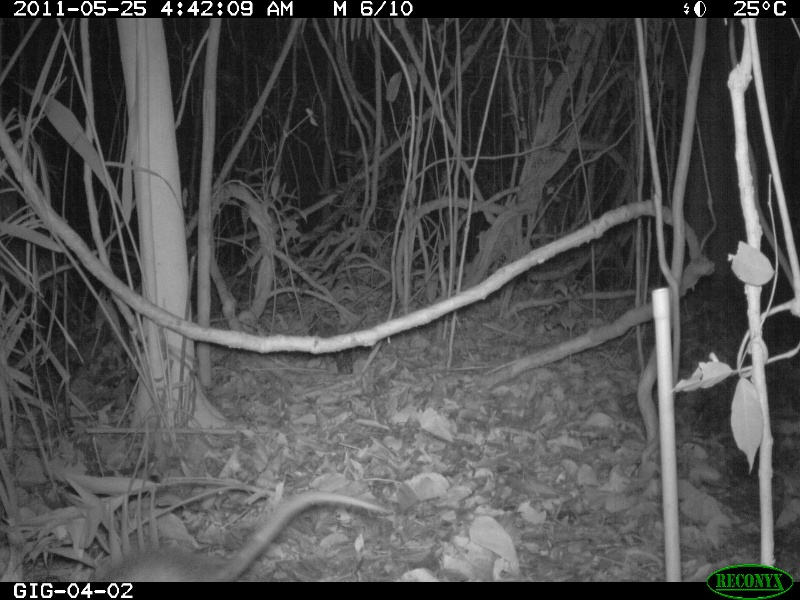opossum: (112, 486, 400, 582)
